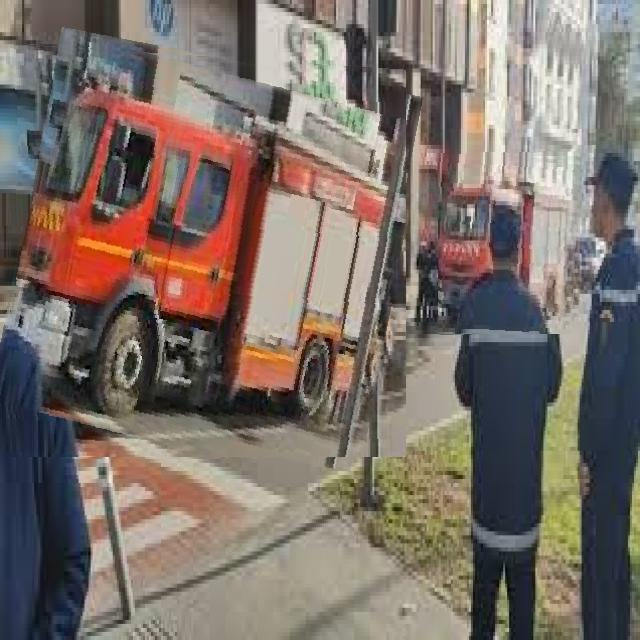Protection Civile: (6, 43, 406, 457), (438, 152, 580, 334)
